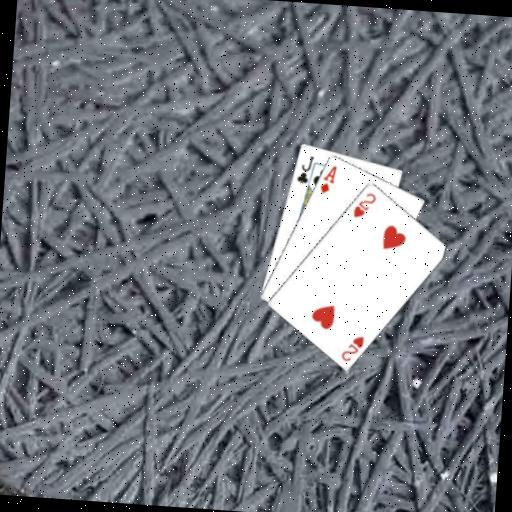2H: (350, 188, 379, 220), (338, 332, 367, 364)
AD: (317, 162, 338, 196)
JC: (293, 151, 315, 186)
